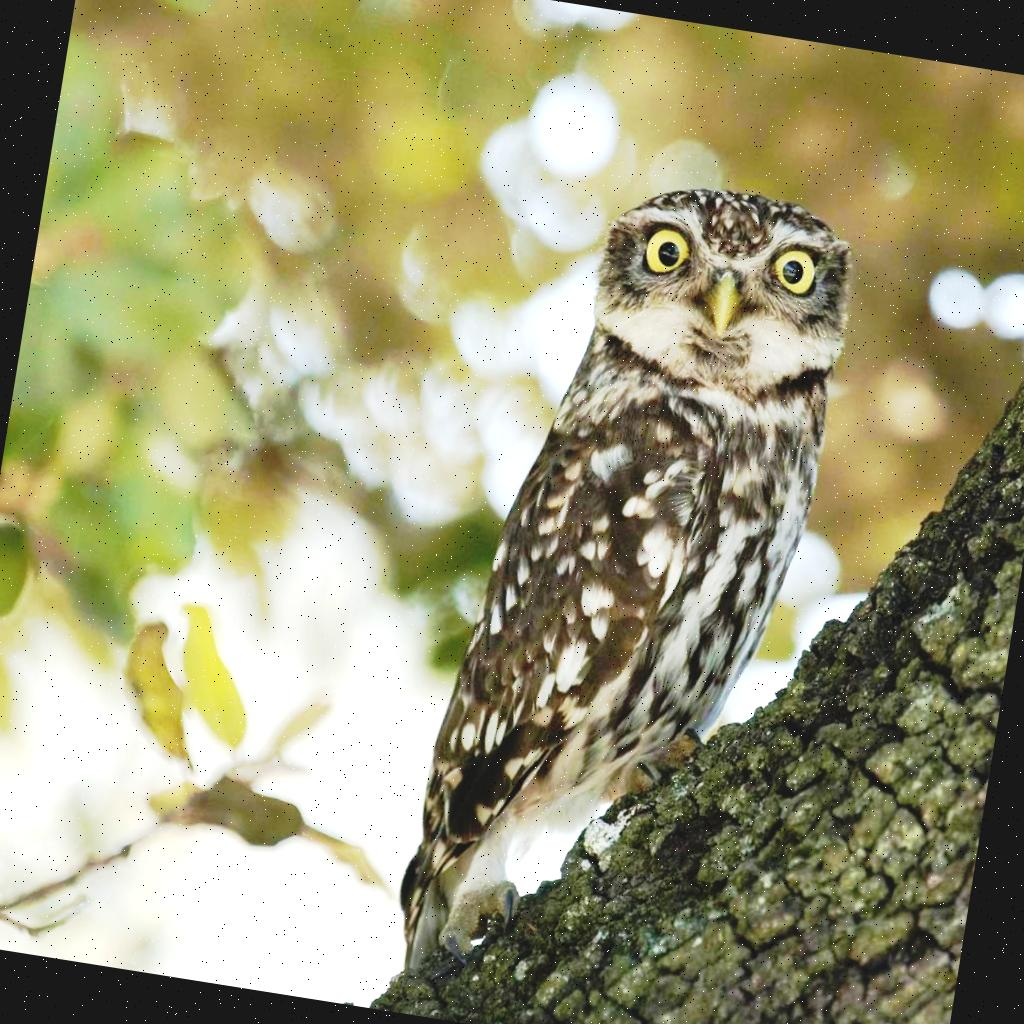Owl: (381, 150, 868, 1017)
